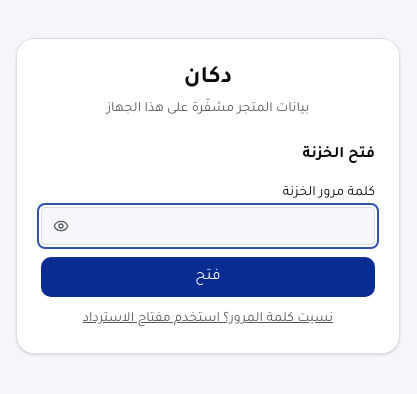
Test: vault gate takes over native validation (issue #109) › unlock: noValidate, and an empty passphrase shows Arabic without a request
The width and height of the screenshot is (417, 394).
Click the button "فتح" at (208, 277), box x1=41 y1=257 x2=375 y2=297
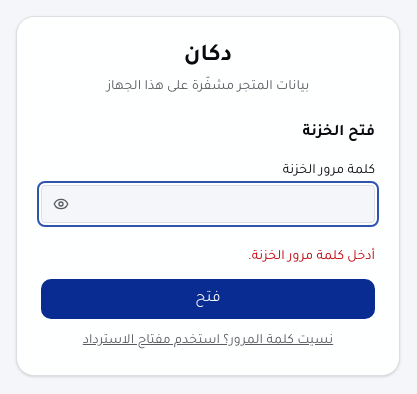
Expected: the message with test id "vault-error" reads "أدخل كلمة مرور الخزنة.", x1=248 y1=250 x2=375 y2=264
